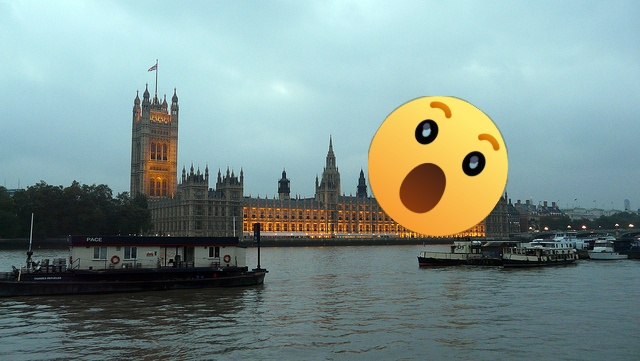wow: (368, 96, 508, 236)
